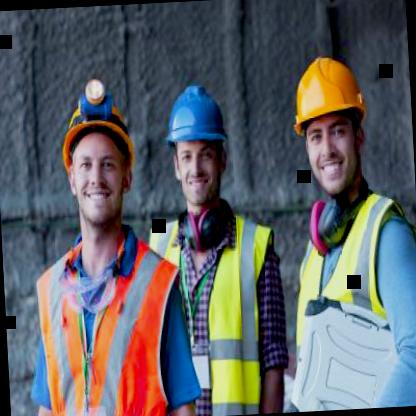helmet: (50, 80, 146, 248), (282, 38, 376, 206), (156, 70, 244, 223)
